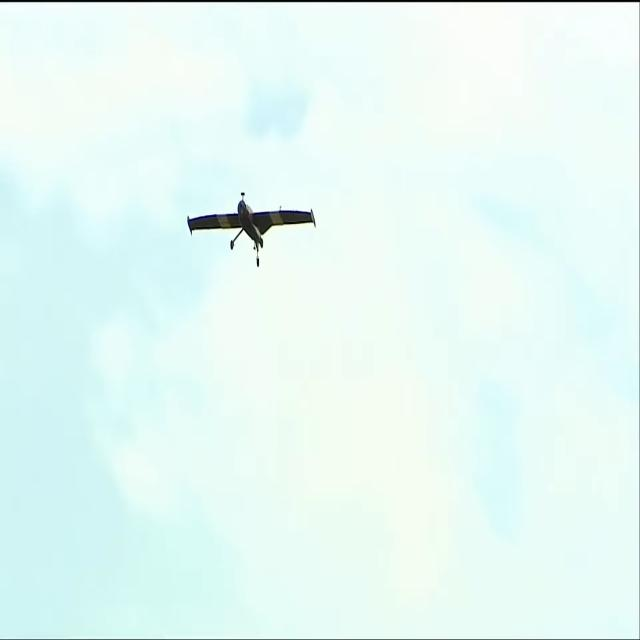iha: (185, 227, 315, 233)
